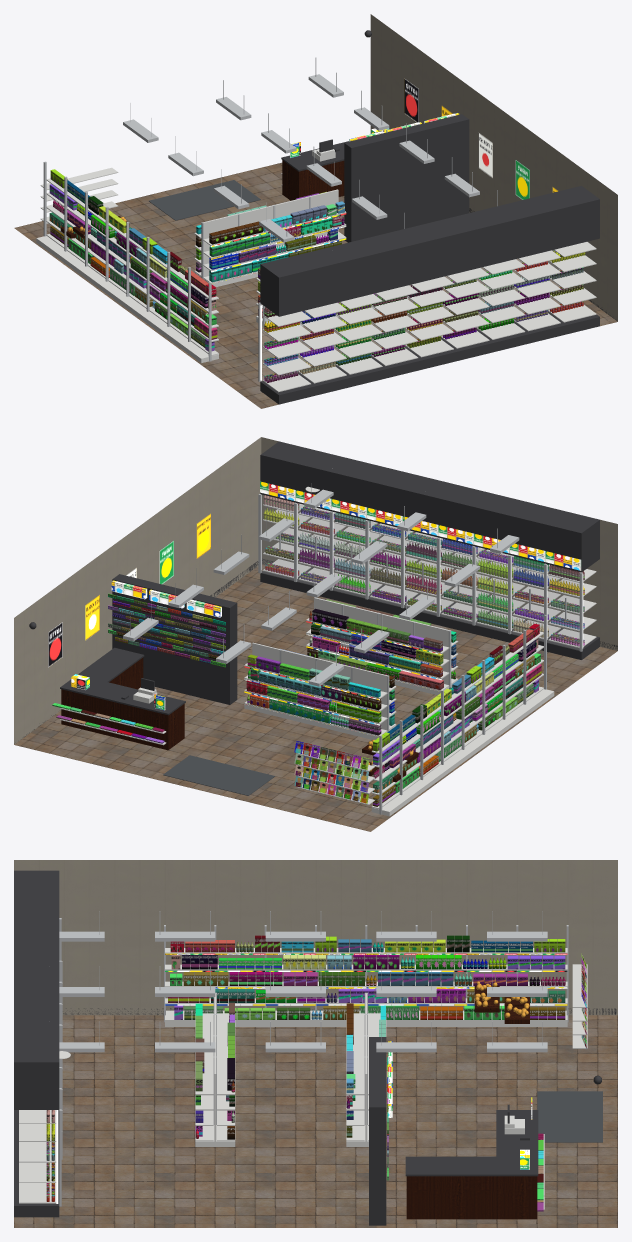
The model's file is conveniencia.gltf.
The picture shows the model from 3 angles, top to bottom: view 1: azimuth 30°, elevation 25°; view 2: azimuth 150°, elevation 25°; view 3: azimuth 270°, elevation 25°; orthographic projection. The views are drawn at different scales.
Visible parts, largest first — view 1: conveniencia_escuro, conveniencia_prateleira, conveniencia_produtos, conveniencia_parede, conveniencia_piso, conveniencia_metal, conveniencia_cartazes, conveniencia_tapete, conveniencia_balcao, conveniencia_vidro; view 2: conveniencia_produtos, conveniencia_escuro, conveniencia_parede, conveniencia_piso, conveniencia_prateleira, conveniencia_vidro, conveniencia_metal, conveniencia_cartazes, conveniencia_balcao, conveniencia_revistas, conveniencia_tapete, conveniencia_luz_fria; view 3: conveniencia_piso, conveniencia_parede, conveniencia_produtos, conveniencia_escuro, conveniencia_prateleira, conveniencia_metal, conveniencia_balcao, conveniencia_tapete, conveniencia_cartazes, conveniencia_fruta.
Boxes of the visible parts, box(x1,y1,x2,y2) form: conveniencia_escuro: box(260, 30, 616, 404); conveniencia_prateleira: box(36, 167, 596, 392); conveniencia_produtos: box(49, 169, 585, 382); conveniencia_parede: box(370, 14, 617, 321); conveniencia_piso: box(14, 162, 617, 408); conveniencia_metal: box(43, 57, 560, 381); conveniencia_cartazes: box(211, 78, 558, 283); conveniencia_tapete: box(149, 180, 260, 220); conveniencia_balcao: box(60, 160, 344, 238); conveniencia_vidro: box(262, 250, 559, 380); conveniencia_produtos: box(52, 495, 584, 806); conveniencia_escuro: box(14, 441, 617, 743); conveniencia_parede: box(14, 437, 617, 744); conveniencia_piso: box(14, 564, 617, 831); conveniencia_prateleira: box(60, 503, 596, 816); conveniencia_vidro: box(261, 495, 579, 650); conveniencia_metal: box(123, 468, 582, 814); conveniencia_cartazes: box(48, 481, 581, 725); conveniencia_balcao: box(61, 657, 418, 782); conveniencia_revistas: box(294, 741, 369, 803); conveniencia_tapete: box(163, 755, 275, 795); conveniencia_luz_fria: box(261, 495, 583, 648); conveniencia_piso: box(14, 1015, 617, 1227); conveniencia_parede: box(14, 860, 617, 1015); conveniencia_produtos: box(46, 935, 565, 1211); conveniencia_escuro: box(14, 870, 616, 1225); conveniencia_prateleira: box(19, 948, 587, 1209); conveniencia_metal: box(59, 911, 568, 1206); conveniencia_balcao: box(406, 982, 537, 1219); conveniencia_tapete: box(537, 1091, 602, 1142); conveniencia_cartazes: box(165, 953, 567, 1169); conveniencia_fruta: box(474, 978, 529, 1017).
Size of the model in its own units: 10.25 by 3.4 by 12.
Materials: 16 (7 with a texture image).
